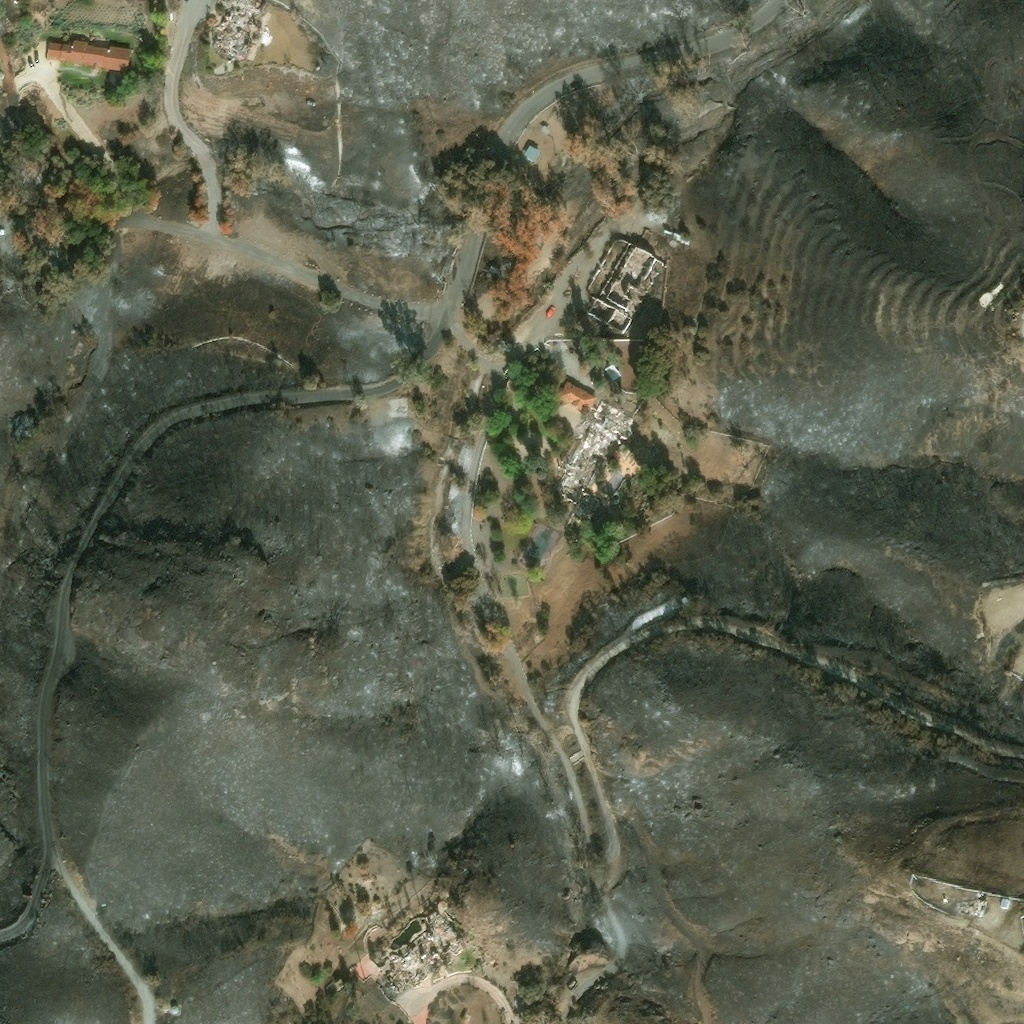0 no-damage: (49, 40, 131, 73), (559, 383, 599, 413), (524, 146, 542, 165)
1 minor-damage: (1000, 900, 1011, 910)
3 destroyed: (554, 398, 636, 515), (586, 240, 668, 337), (385, 913, 462, 995), (211, 0, 269, 62), (958, 899, 988, 919), (541, 127, 551, 137), (943, 899, 949, 906)
4 un-classified: (171, 1007, 179, 1016), (681, 598, 689, 606)
